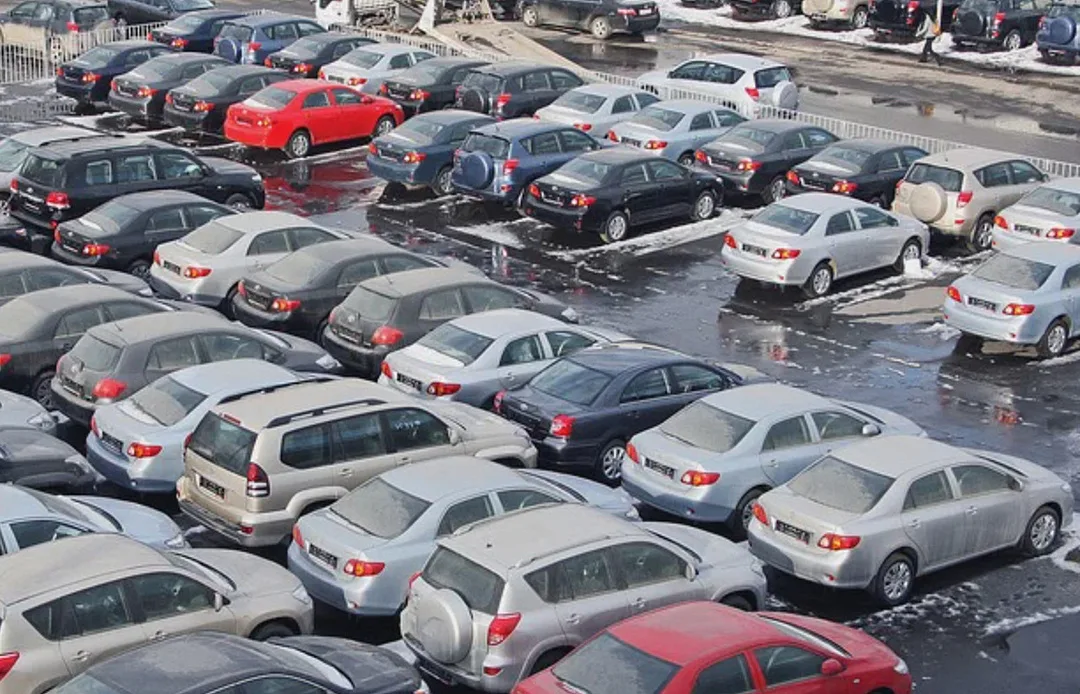Car: (399, 503, 767, 694), (176, 379, 537, 549), (286, 457, 638, 618), (747, 435, 1074, 607), (0, 533, 314, 694), (621, 383, 927, 536), (512, 601, 913, 694), (493, 341, 747, 485), (85, 359, 337, 495), (50, 311, 341, 427), (321, 267, 581, 378), (0, 284, 222, 404), (378, 308, 632, 409), (229, 237, 475, 341), (9, 137, 264, 236), (46, 630, 429, 694), (148, 211, 367, 316), (721, 193, 930, 299), (524, 147, 722, 243), (51, 190, 253, 278), (893, 147, 1052, 252), (942, 242, 1080, 359), (223, 79, 405, 160), (450, 118, 605, 211), (0, 482, 190, 557), (693, 118, 839, 203), (366, 109, 497, 196), (0, 124, 124, 214), (637, 53, 799, 118), (785, 138, 929, 208), (164, 65, 294, 137), (608, 99, 748, 165), (108, 53, 231, 127), (0, 246, 151, 305), (55, 40, 174, 107), (533, 82, 659, 141), (455, 62, 585, 119), (0, 0, 112, 63), (0, 425, 100, 494), (379, 57, 489, 116), (990, 177, 1080, 249), (319, 44, 436, 94), (213, 14, 325, 65), (519, 0, 660, 39), (951, 0, 1051, 51), (264, 32, 377, 77), (150, 10, 247, 52), (869, 0, 963, 43), (104, 0, 217, 27), (1036, 0, 1080, 65), (0, 388, 58, 435), (801, 0, 872, 29), (728, 0, 805, 21), (0, 212, 31, 249), (680, 0, 727, 9)
